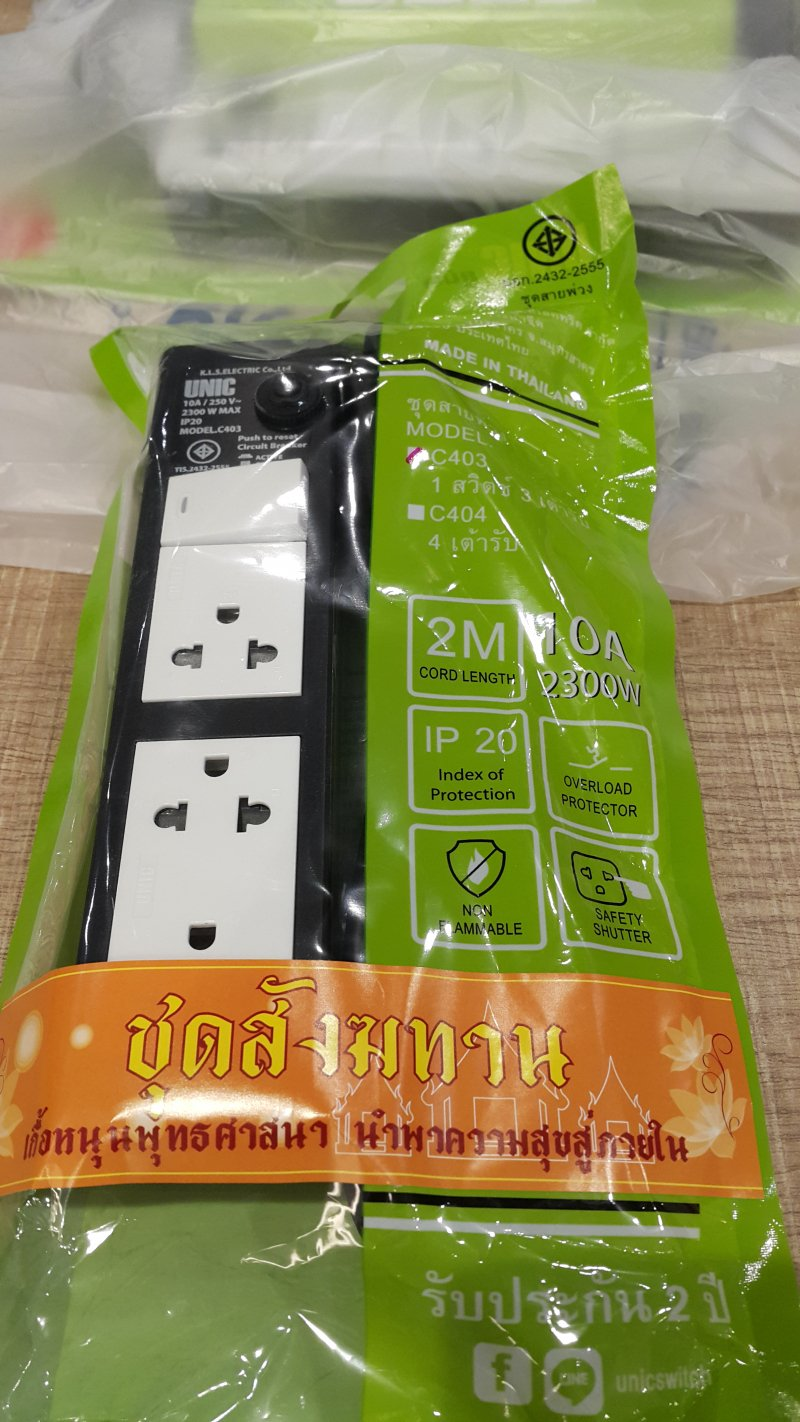Three_eye_plug: (97, 310, 368, 987)
